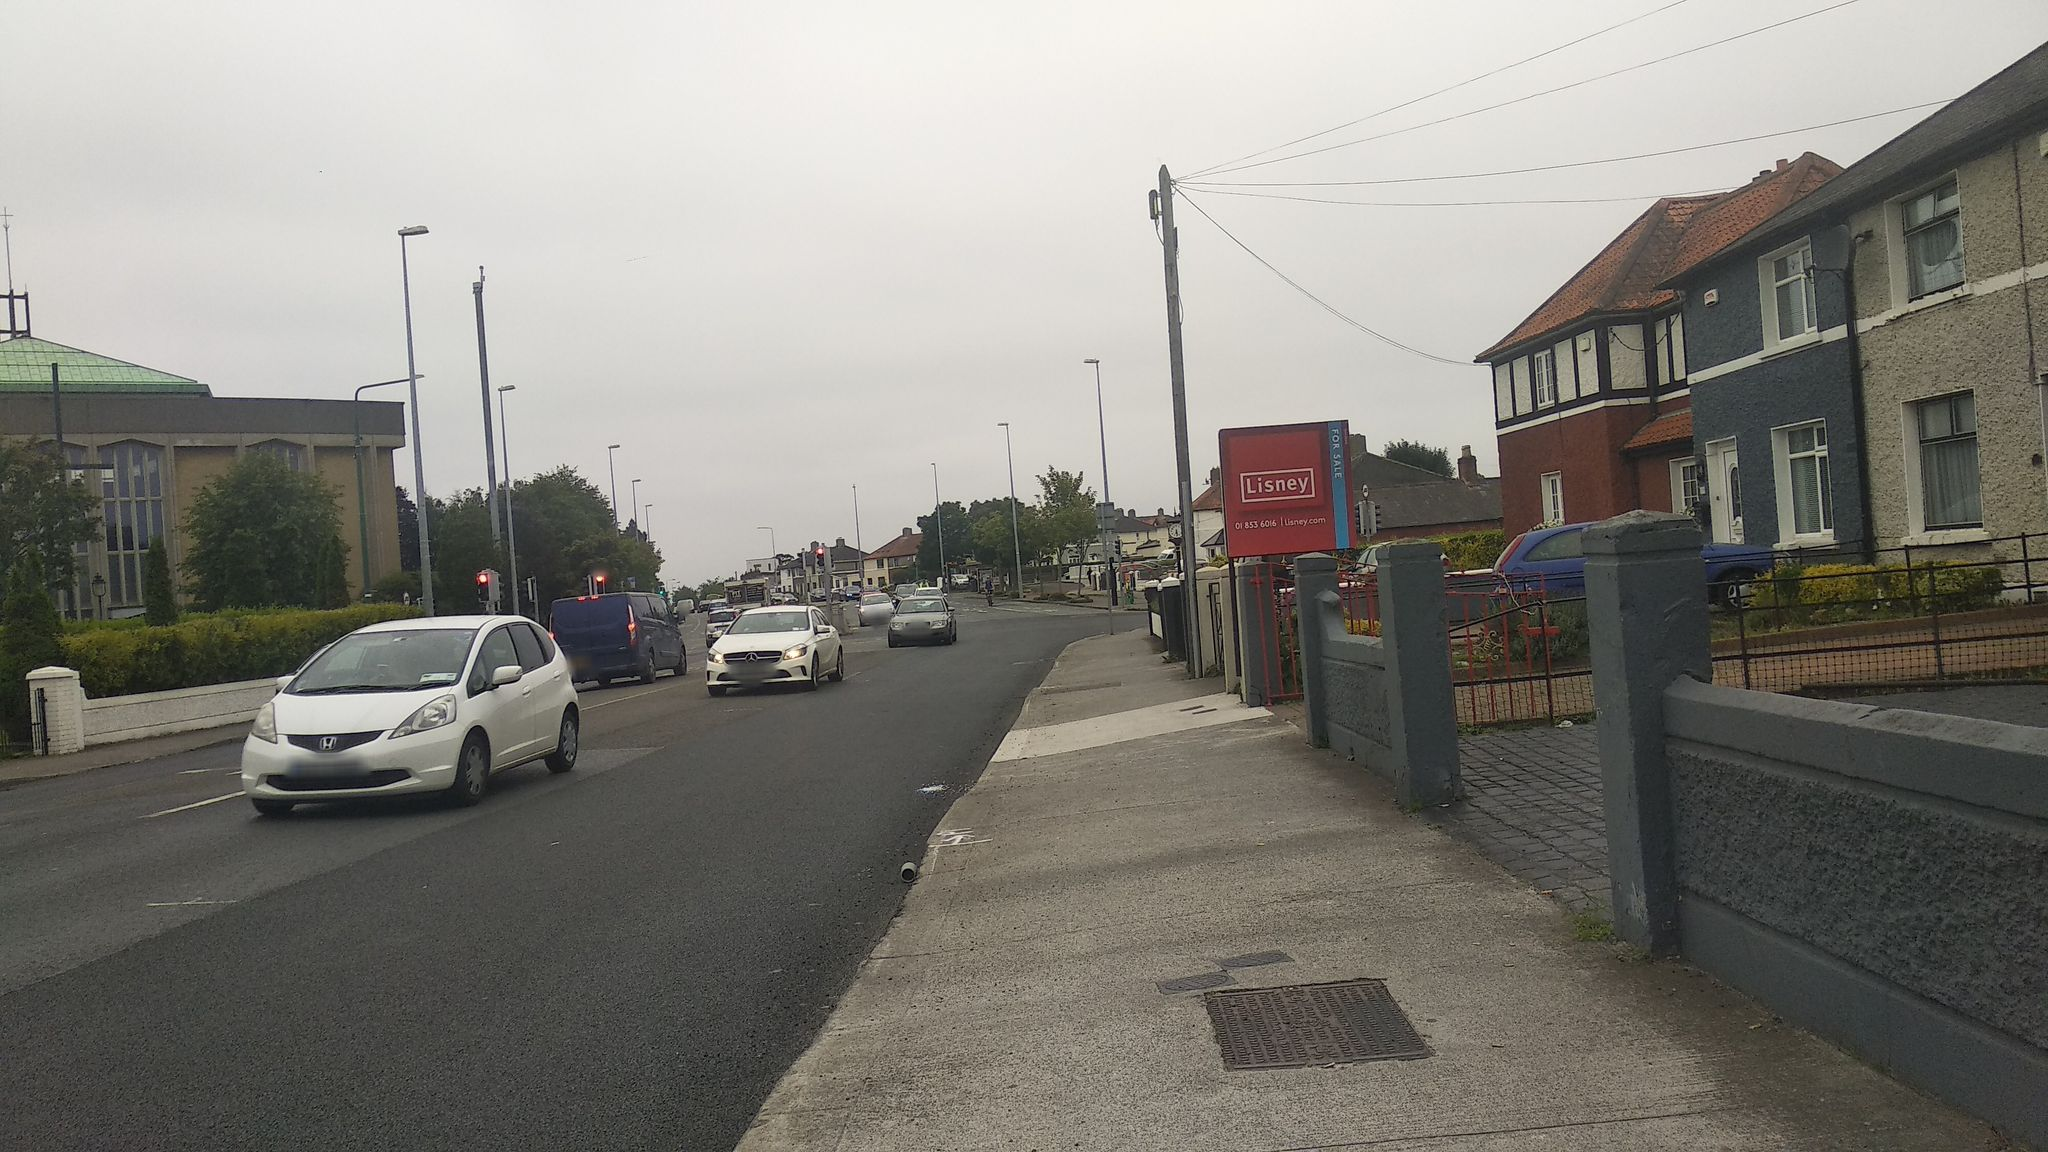property sign: (1201, 409, 1373, 560)
